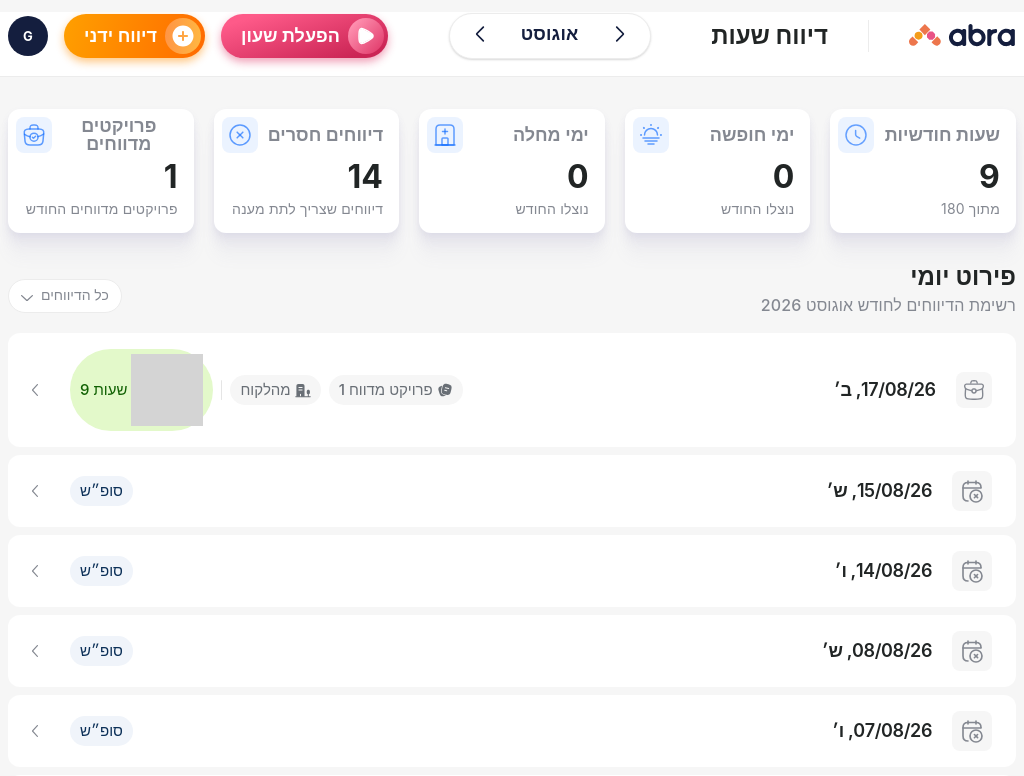
Reports home shell › starts the work clock when signed in and idle
Click the button "הפעלת שעון": click(304, 36) [221, 14, 388, 58]
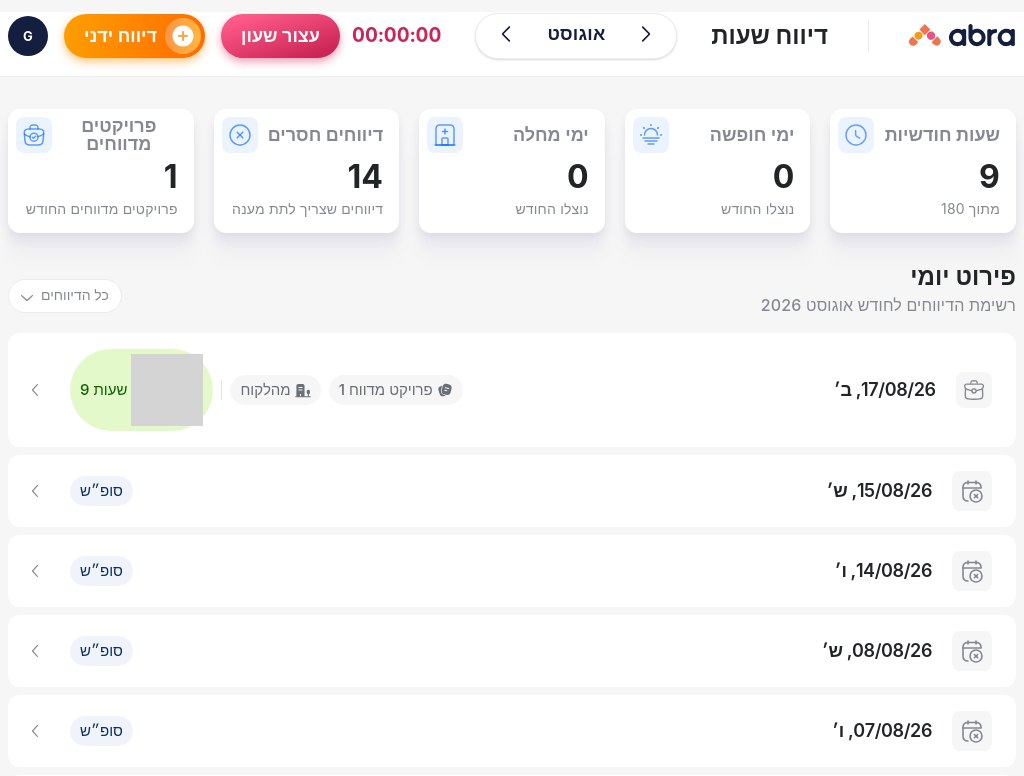
Result: the button "עצור שעון" is shown at [221, 14, 340, 58]
Result: the text with test id "clock-elapsed" reads "00:00:00" at [352, 23, 442, 47]
Result: the button "הפעלת שעון" is gone
